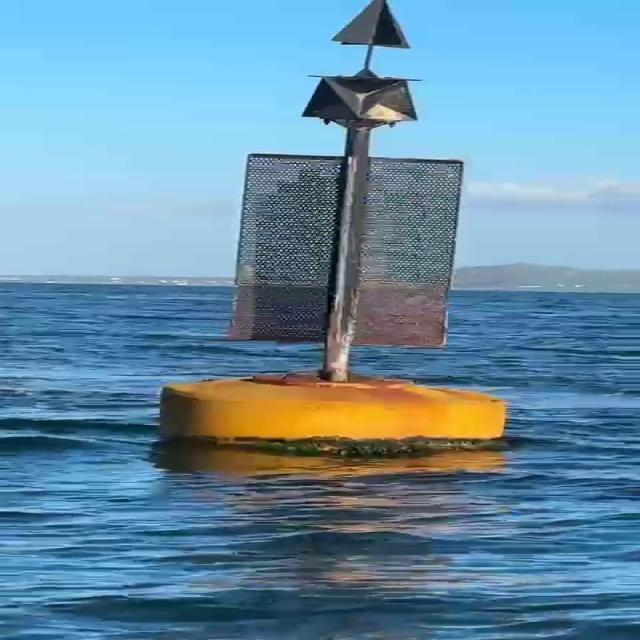marque: (162, 1, 522, 454)
